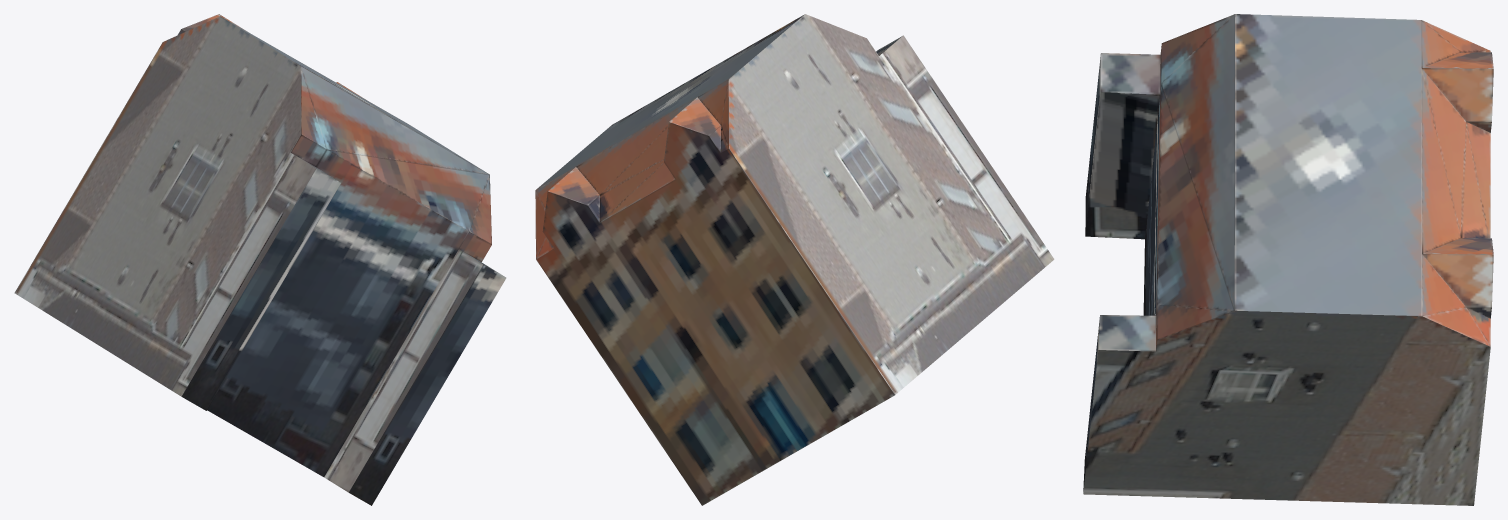
The picture shows the model from 3 angles, left to right: view 1: azimuth 30°, elevation 25°; view 2: azimuth 150°, elevation 25°; view 3: azimuth 270°, elevation 25°; orthographic projection. The views are drawn at different scales.
Parts seen in each view (by area): view 1: BAG_0599100000670810 (×6); view 2: BAG_0599100000670810 (×5); view 3: BAG_0599100000670810 (×5).
Part boxes in pixels (x1=…): BAG_0599100000670810 (×6): x1=14, y1=14, x2=506, y2=505; BAG_0599100000670810 (×5): x1=535, y1=14, x2=1054, y2=505; BAG_0599100000670810 (×5): x1=1083, y1=14, x2=1493, y2=505.
Bounding box in the file's own units: 16.55 × 17.17 × 13.01.
6 materials, 6 textured.
